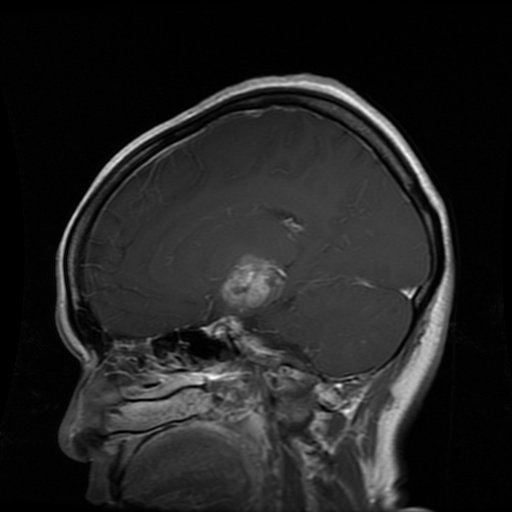glioma: (217, 253, 288, 316)
